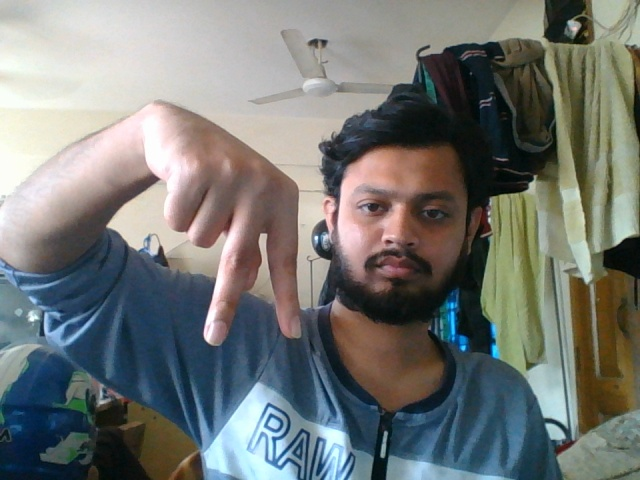pa: (130, 101, 310, 354)
